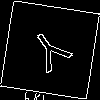Y: (25, 25, 80, 82)
